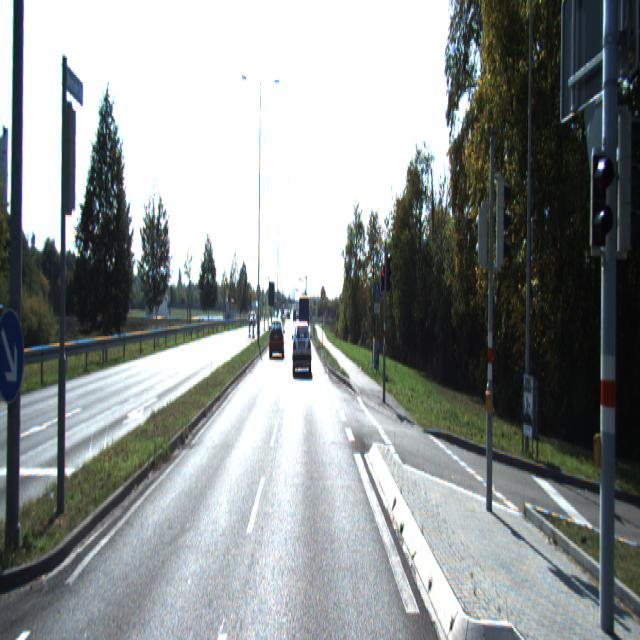Car: (292, 324, 312, 376), (269, 318, 285, 359), (298, 294, 311, 344)
